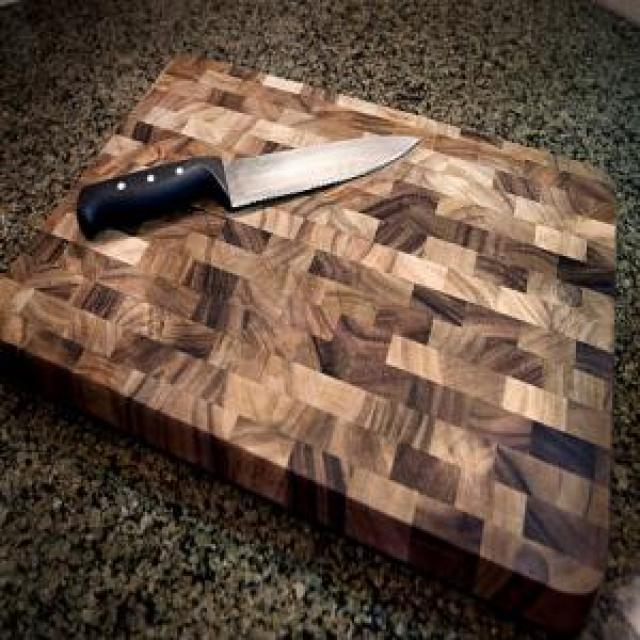knife: (70, 134, 432, 243)
